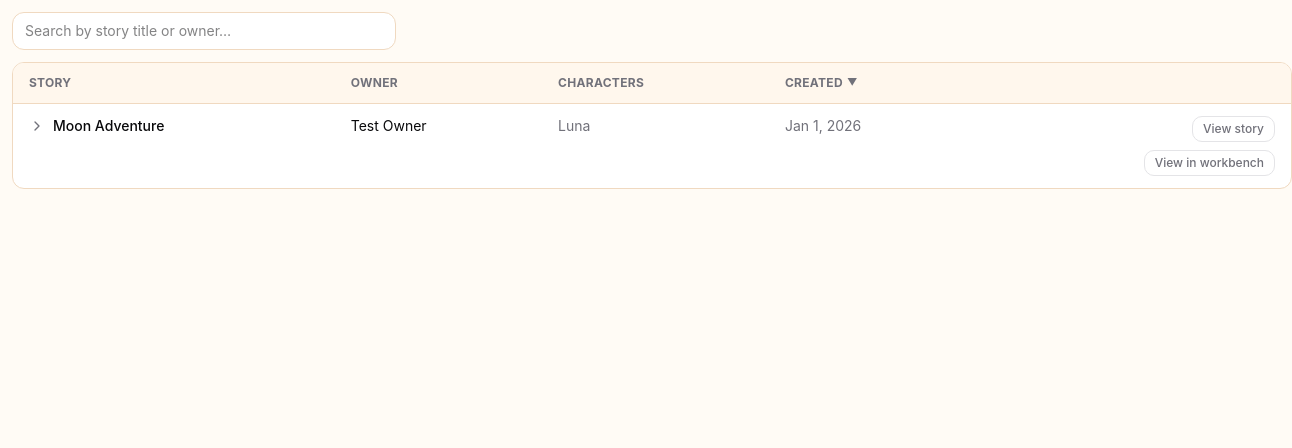
Scenario: PromptViewer › shows a workbench link for each story without nesting it in the expand button
Click the text "Moon Adventure". click: click(109, 126)
box: [53,116,164,136]
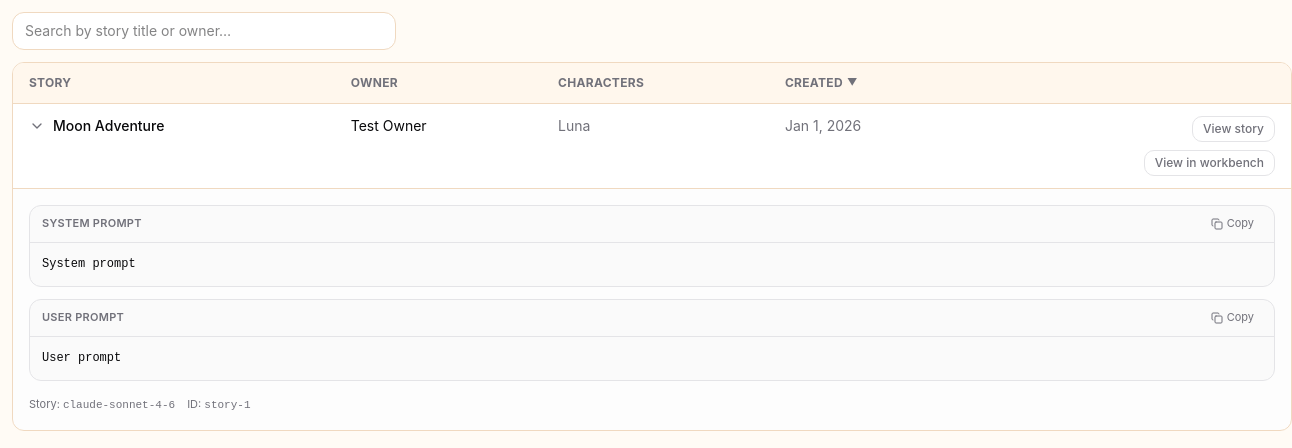
Check: the text "System Prompt" is shown, box [42,216,142,232]
Check: the text "User Prompt" is shown, box [42,310,124,326]
